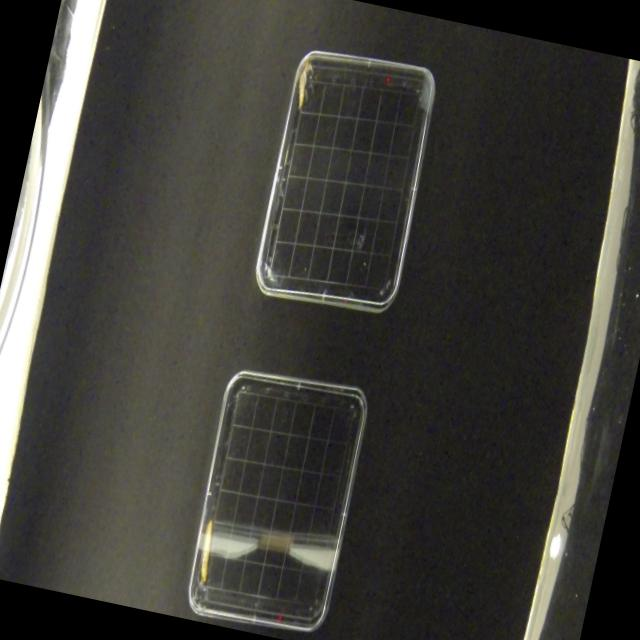larva: (194, 518, 220, 584), (294, 55, 316, 112)
